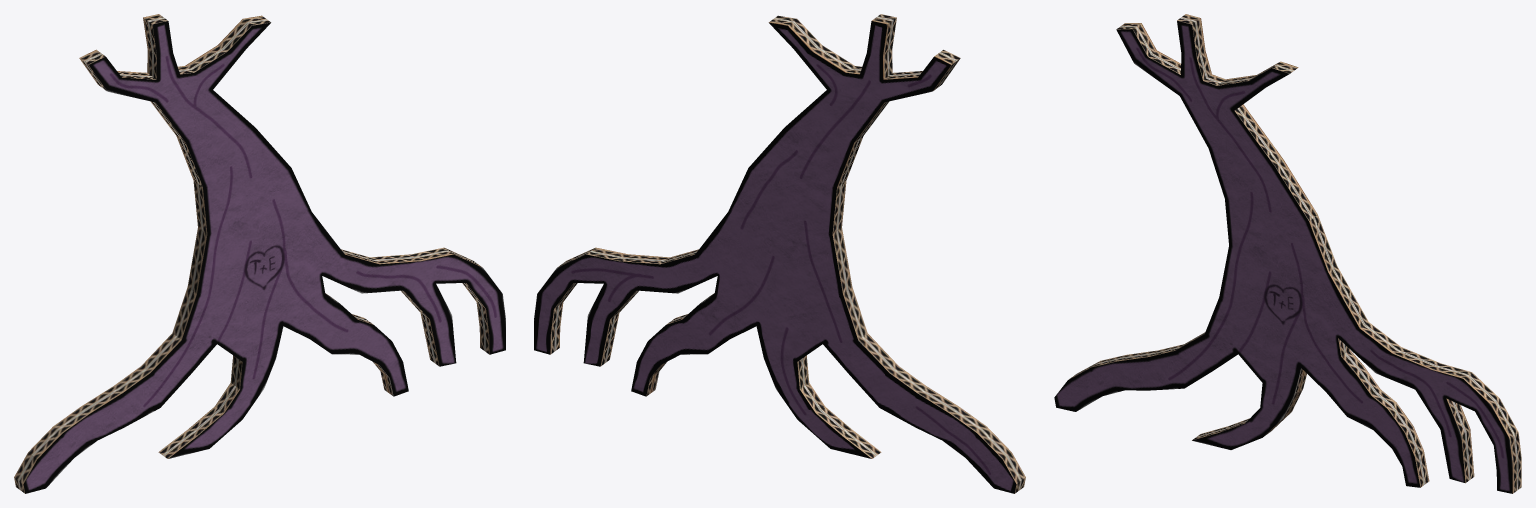
File: Arbre racine.fbx
The picture shows the model from 3 angles, left to right: view 1: azimuth 30°, elevation 25°; view 2: azimuth 150°, elevation 25°; view 3: azimuth 330°, elevation 25°; orthographic projection. The views are drawn at different scales.
Visible parts, largest first — view 1: tronc racine; view 2: tronc racine; view 3: tronc racine.
Boxes of the visible parts, box(x1,y1,x2,y2) form: tronc racine: box(14, 14, 505, 493); tronc racine: box(534, 14, 1025, 493); tronc racine: box(1054, 14, 1521, 493).
Bounding box in the file's own units: 1473 × 50 × 1280.
